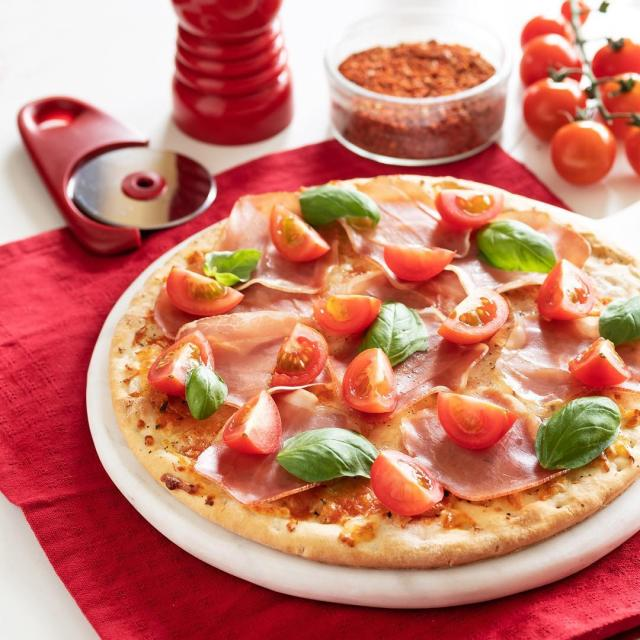basil: (272, 423, 380, 485), (478, 219, 560, 278), (362, 301, 429, 370), (296, 187, 382, 226), (186, 363, 229, 421), (202, 246, 261, 287)
pizza: (108, 176, 640, 572)
tomatoes: (436, 390, 519, 454), (370, 448, 445, 518), (148, 330, 216, 402), (436, 285, 512, 347), (164, 265, 249, 317), (267, 322, 330, 392), (538, 260, 598, 326), (341, 348, 398, 417), (224, 390, 284, 455), (567, 334, 636, 389), (268, 204, 332, 262), (380, 240, 460, 286), (311, 290, 383, 338), (435, 185, 506, 233), (599, 288, 640, 343)
